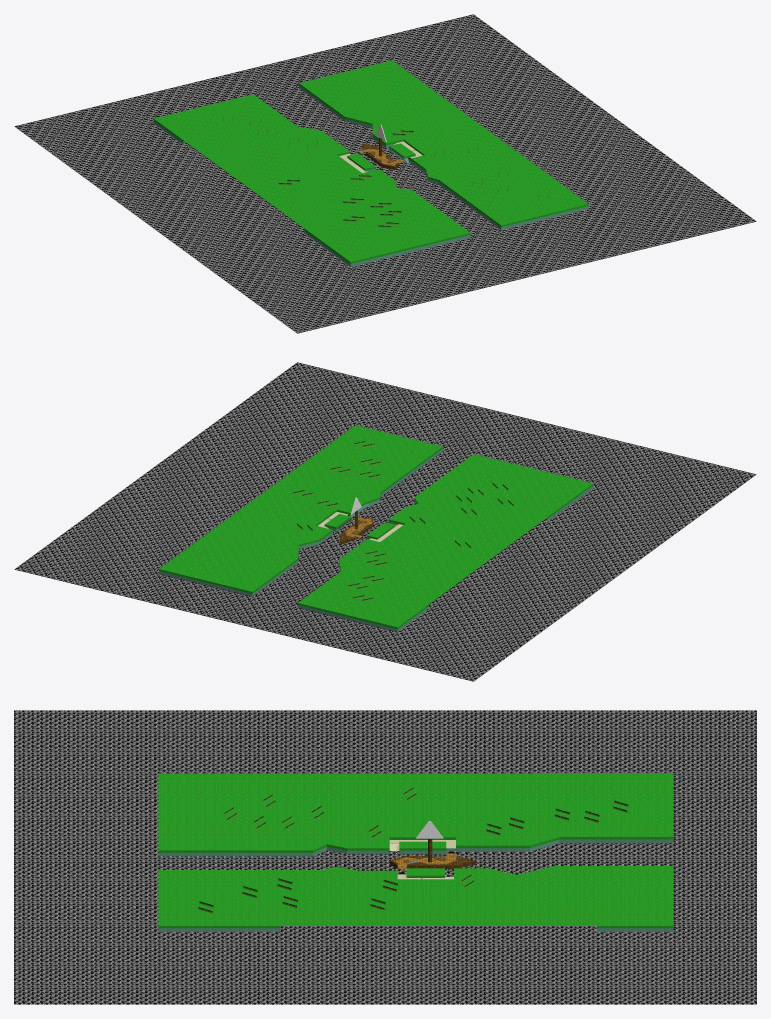
The picture shows the model from 3 angles, top to bottom: view 1: azimuth 30°, elevation 25°; view 2: azimuth 150°, elevation 25°; view 3: azimuth 270°, elevation 25°; orthographic projection. The views are drawn at different scales.
Parts seen in each view (by area): view 1: course-SKP--wateroob.001, course-SKP--grass_wall.001, course-SKP--rockwall.002, course-SKP--grassdecor.001; view 2: course-SKP--wateroob.001, course-SKP--grass_wall.001, course-SKP--rockwall.002, course-SKP--grassdecor.001; view 3: course-SKP--wateroob.001, course-SKP--grass_wall.001, course-SKP--rockwall.002, course-SKP--grassdecor.001, course-SKP--woodwall.001.
Part boxes in pixels (x1,y1,x2,y2): course-SKP--wateroob.001: [14, 14, 756, 333]; course-SKP--grass_wall.001: [153, 60, 588, 263]; course-SKP--rockwall.002: [153, 85, 588, 266]; course-SKP--grassdecor.001: [223, 116, 548, 227]; course-SKP--wateroob.001: [14, 362, 756, 681]; course-SKP--grass_wall.001: [159, 425, 593, 629]; course-SKP--rockwall.002: [159, 449, 593, 631]; course-SKP--grassdecor.001: [293, 441, 513, 601]; course-SKP--wateroob.001: [14, 710, 756, 1004]; course-SKP--grass_wall.001: [158, 773, 673, 928]; course-SKP--rockwall.002: [158, 839, 673, 931]; course-SKP--grassdecor.001: [198, 787, 628, 913]; course-SKP--woodwall.001: [389, 838, 475, 869].
Size of the model in its own units: 269614 by 20512 by 287658.
23 materials, 22 textured.
